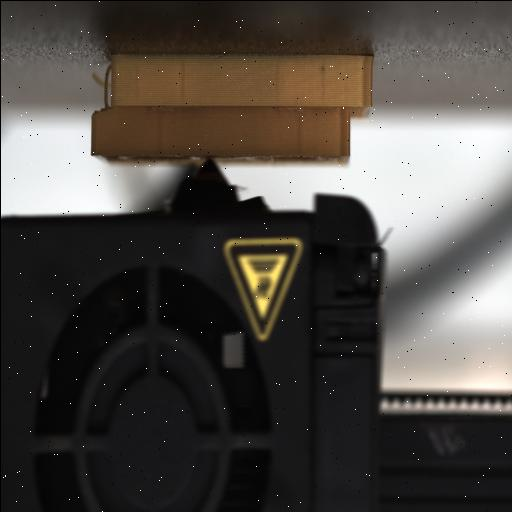layer_shift: (94, 95, 372, 117)
